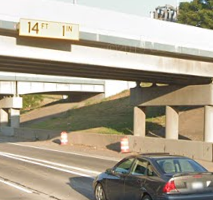1: (60, 24, 66, 37), (26, 20, 31, 34)
4: (31, 20, 40, 35)
overheadsign: (19, 18, 80, 41)
